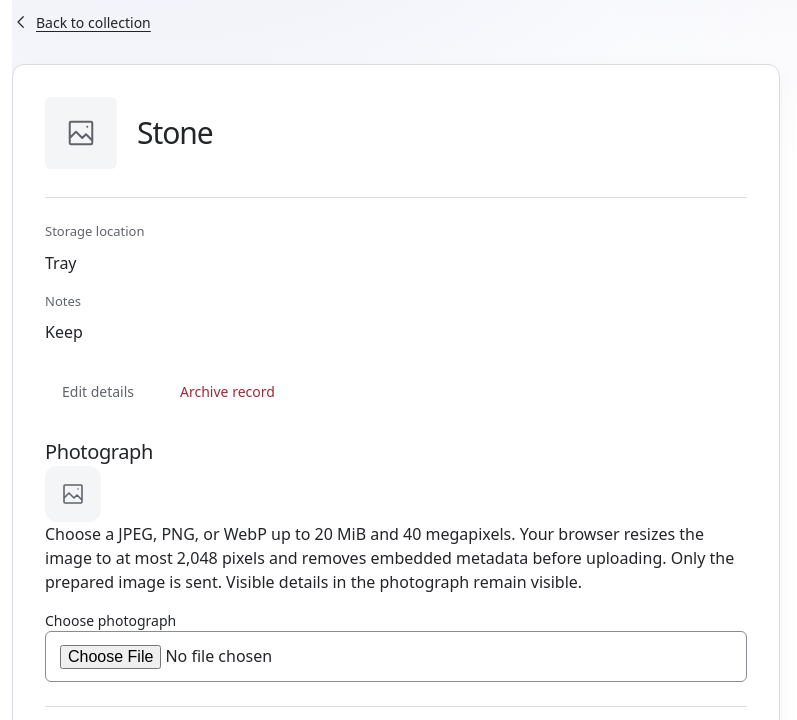
Scenario: retries an uncertain archive with the original version and shows read-only saved state
Click the button "Archive record": (227, 392) x1=163 y1=370 x2=292 y2=414
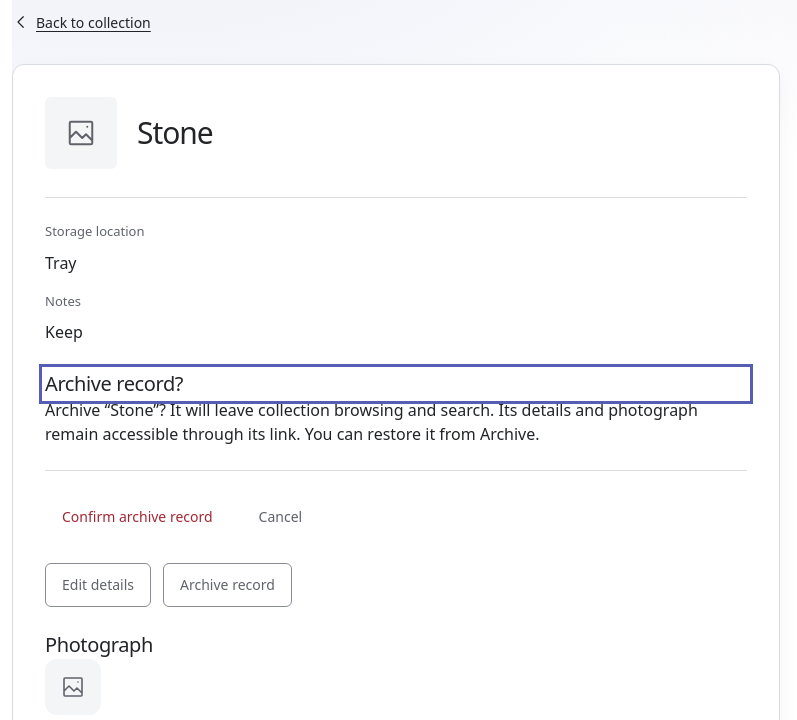
# WHEN confirming and retrying.
Click the button "Confirm archive record": (137, 517) x1=45 y1=495 x2=230 y2=539
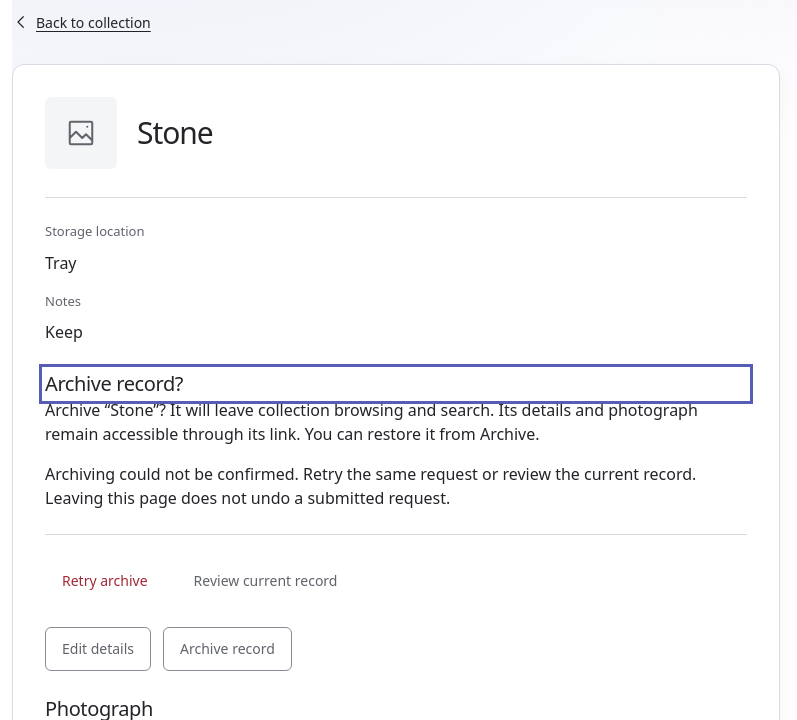
Result: the button "Retry archive" is enabled
Click the button "Retry archive": (105, 581) x1=45 y1=559 x2=165 y2=603
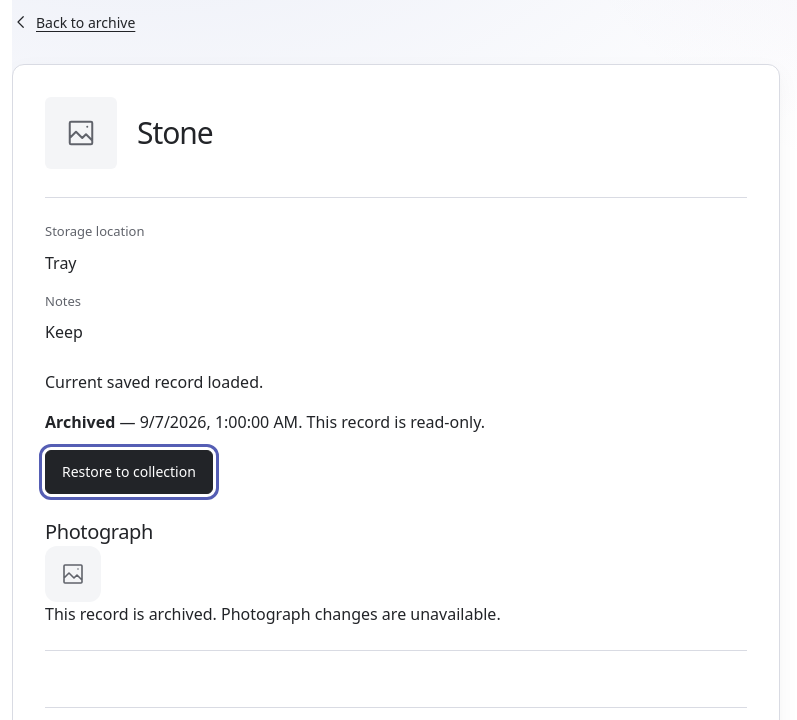
Result: the text "Archived" is shown at x1=45 y1=411 x2=115 y2=433
Result: the button "Edit details" is gone
